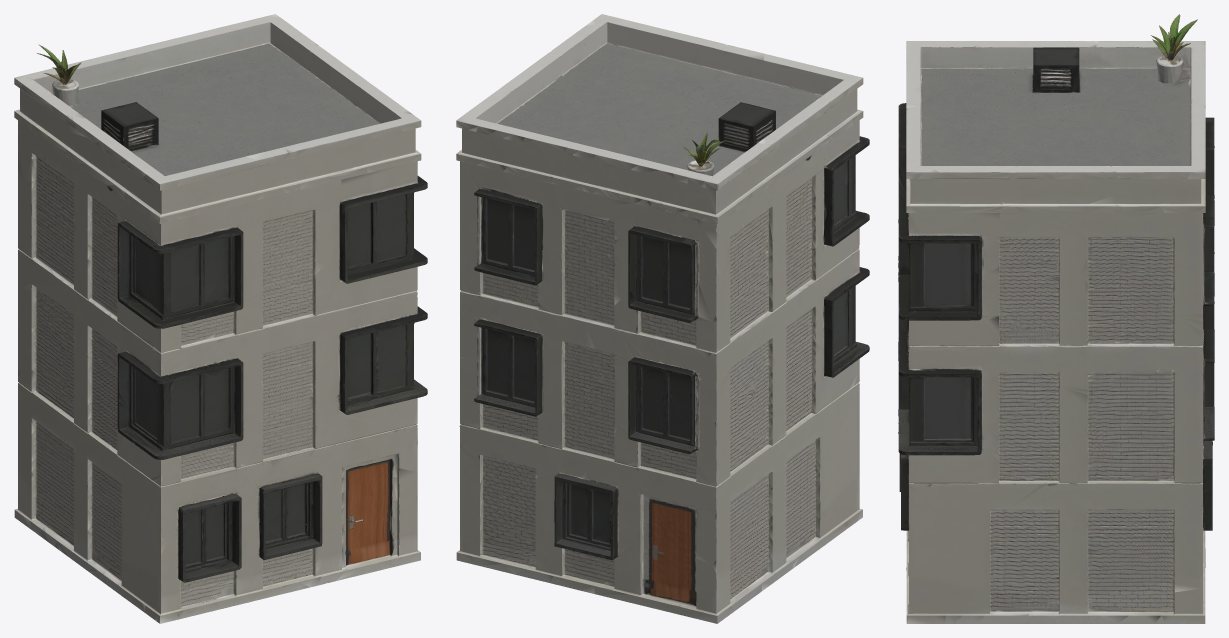
The model's file is JHB_HeroBuilding04_LOD0.fbx.
The picture shows the model from 3 angles, left to right: view 1: azimuth 30°, elevation 25°; view 2: azimuth 150°, elevation 25°; view 3: azimuth 270°, elevation 25°; orthographic projection. The views are drawn at different scales.
Parts seen in each view (by area): view 1: JHB_HeroBuilding04_LOD0; view 2: JHB_HeroBuilding04_LOD0; view 3: JHB_HeroBuilding04_LOD0.
Boxes of the visible parts, bbox=[...] form: JHB_HeroBuilding04_LOD0: bbox=[14, 14, 427, 623]; JHB_HeroBuilding04_LOD0: bbox=[456, 14, 869, 623]; JHB_HeroBuilding04_LOD0: bbox=[898, 14, 1214, 623].
Bounding box in the file's own units: 10.92 × 18 × 10.66.
